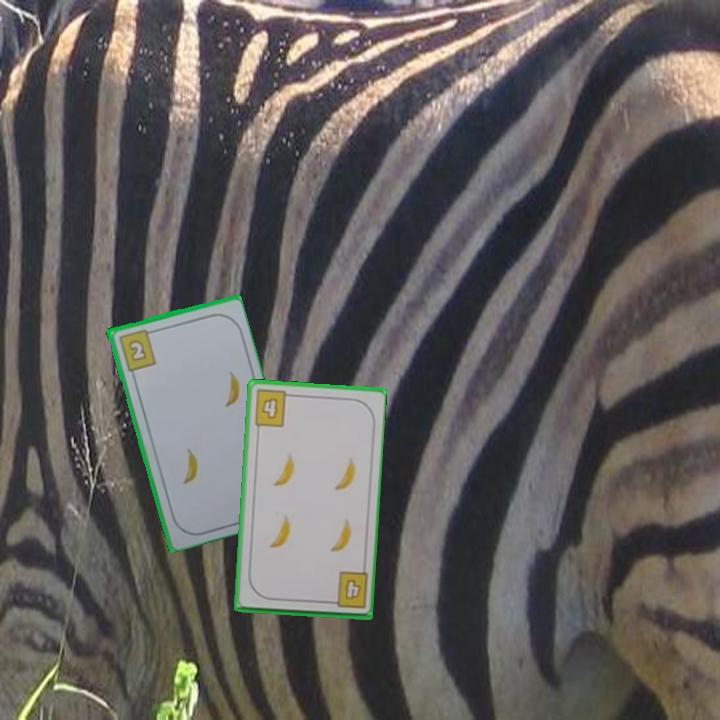2b: (115, 325, 159, 374)
4b: (324, 568, 370, 612), (251, 386, 295, 430)
